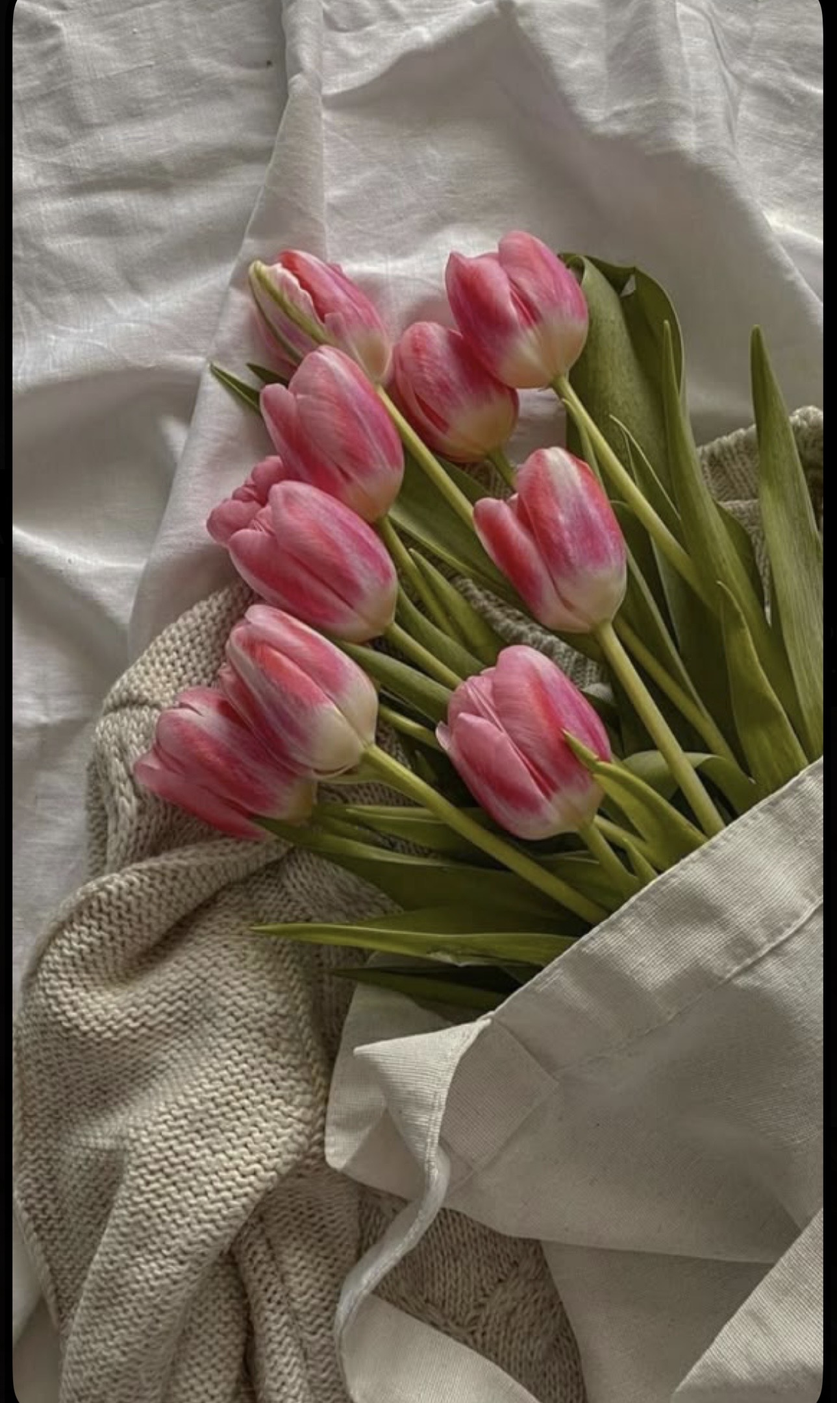tulip: (431, 636, 623, 845), (124, 680, 328, 851), (467, 441, 634, 647), (216, 473, 408, 651), (214, 600, 384, 788), (253, 341, 412, 530), (433, 225, 597, 391), (232, 244, 401, 405), (378, 312, 523, 465)
